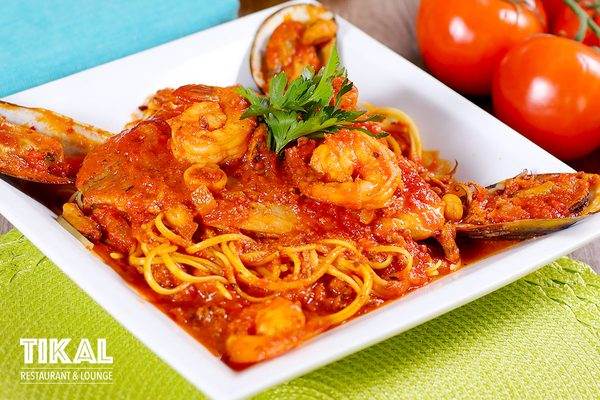taco: (491, 33, 600, 159), (415, 0, 545, 95)
